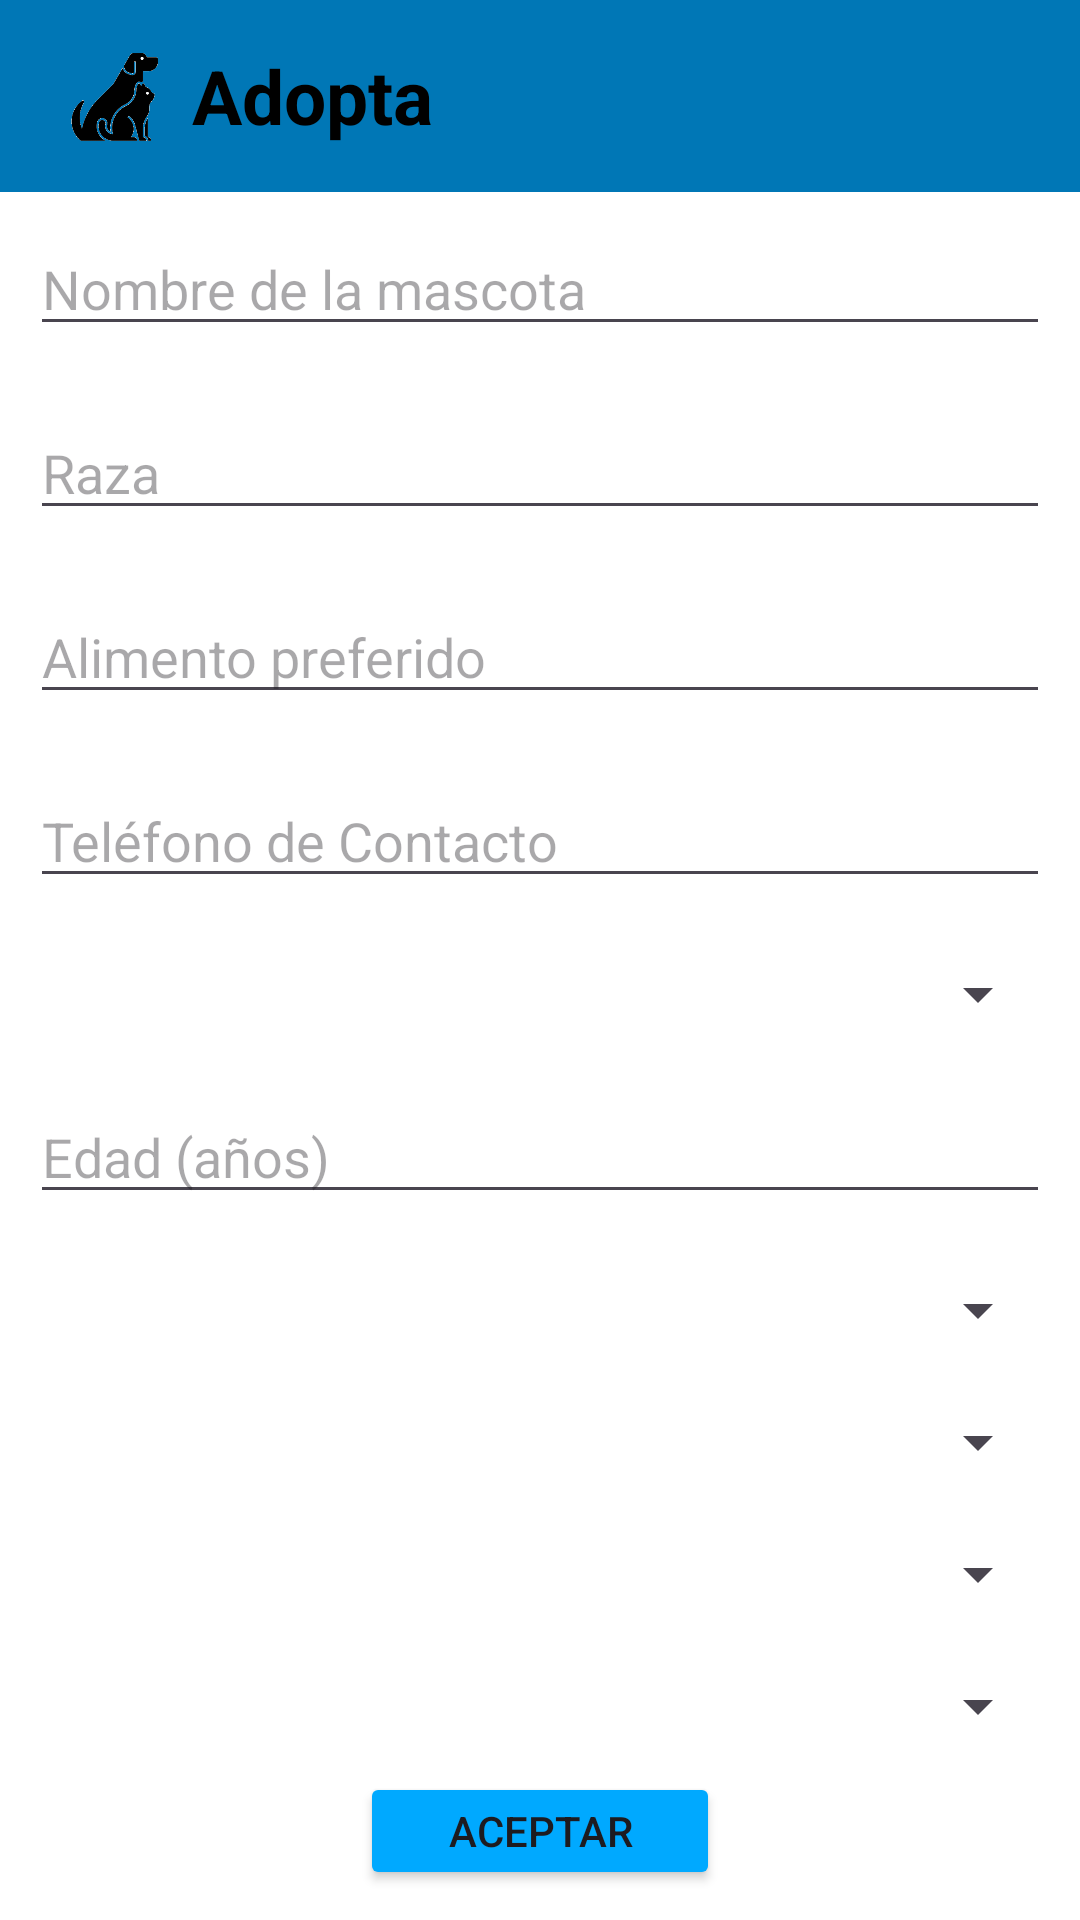

Named icons in this screenshot (1080w x 1920h) and their centers, (x=x, y=y):
mascotas: (x=114, y=97)
